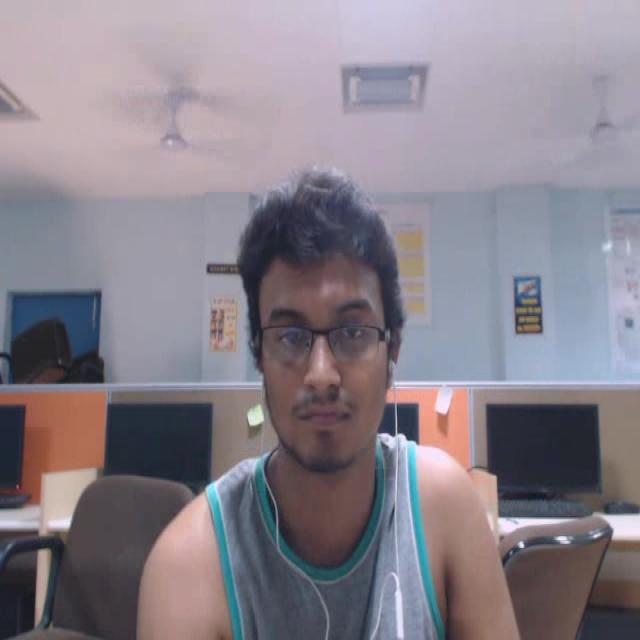Engaged: (230, 178, 418, 491)
